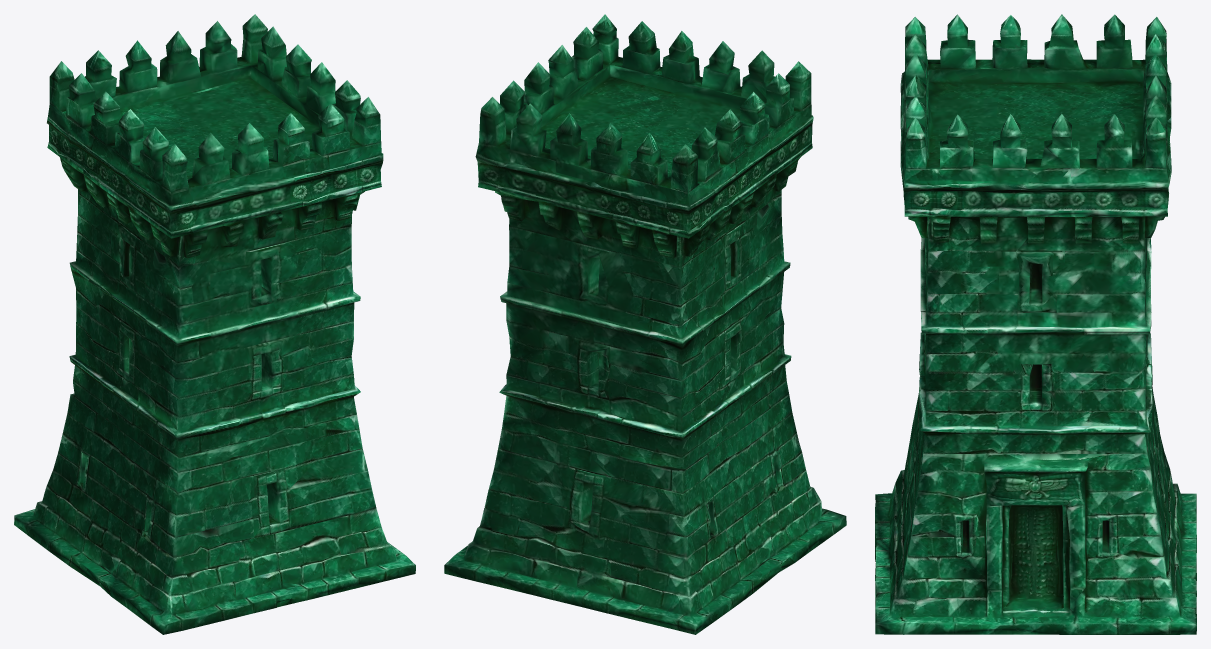
The model's file is castle_tower_medium_diamond_green.glb.
The picture shows the model from 3 angles, left to right: view 1: azimuth 30°, elevation 25°; view 2: azimuth 150°, elevation 25°; view 3: azimuth 270°, elevation 25°; orthographic projection. The views are drawn at different scales.
Parts seen in each view (by area): view 1: tripo_node_0e04f923-03ad-4ebf-9e1d-676441b93ec8; view 2: tripo_node_0e04f923-03ad-4ebf-9e1d-676441b93ec8; view 3: tripo_node_0e04f923-03ad-4ebf-9e1d-676441b93ec8.
Part boxes in pixels (<box>): tripo_node_0e04f923-03ad-4ebf-9e1d-676441b93ec8: <box>14,14,415,634</box>; tripo_node_0e04f923-03ad-4ebf-9e1d-676441b93ec8: <box>444,14,846,634</box>; tripo_node_0e04f923-03ad-4ebf-9e1d-676441b93ec8: <box>875,14,1196,634</box>.
Size of the model in its own units: 0.5493 by 0.9807 by 0.5668.
Materials: 1 (1 with a texture image).
